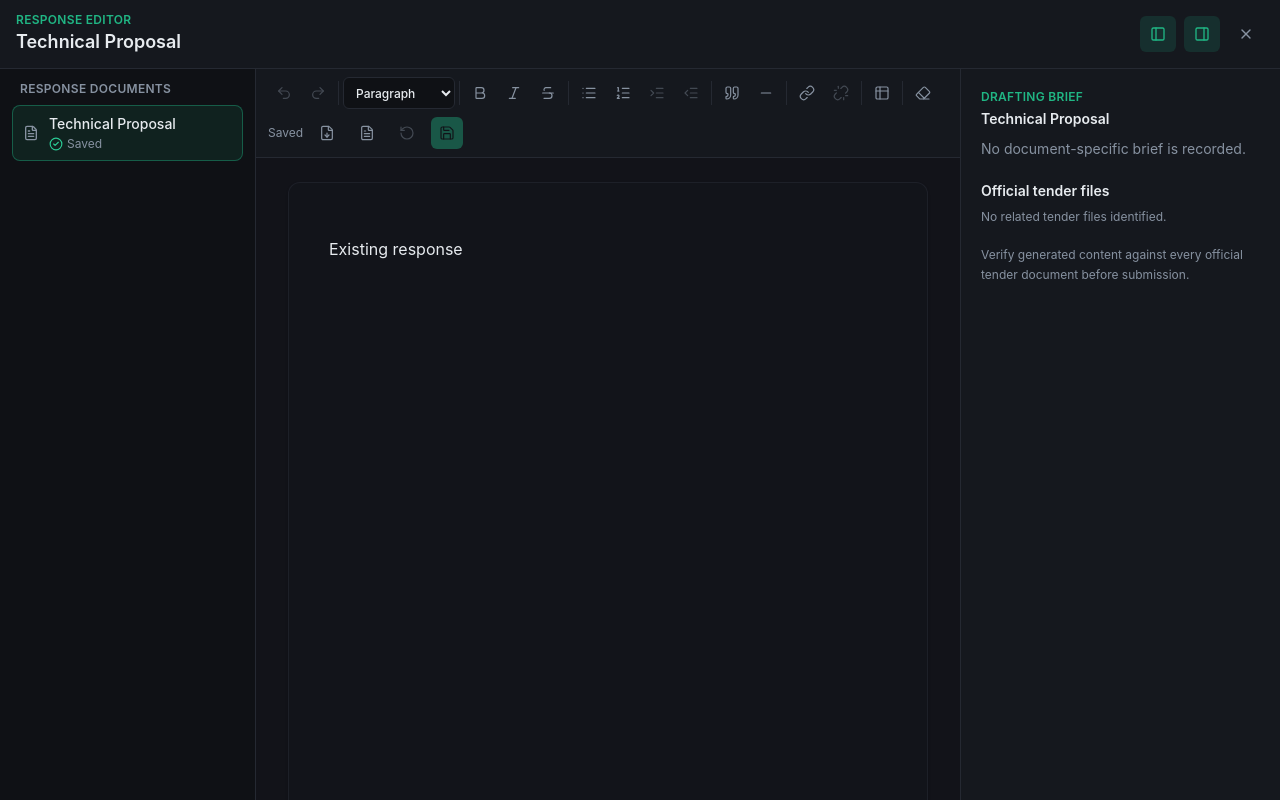
Test: DraftStage › queues a save locally when offline and shows pending sync
This screenshot has width=1280, height=800.
Click the field named "Edit Technical Proposal".
click(396, 249)  # box [329,239,463,259]
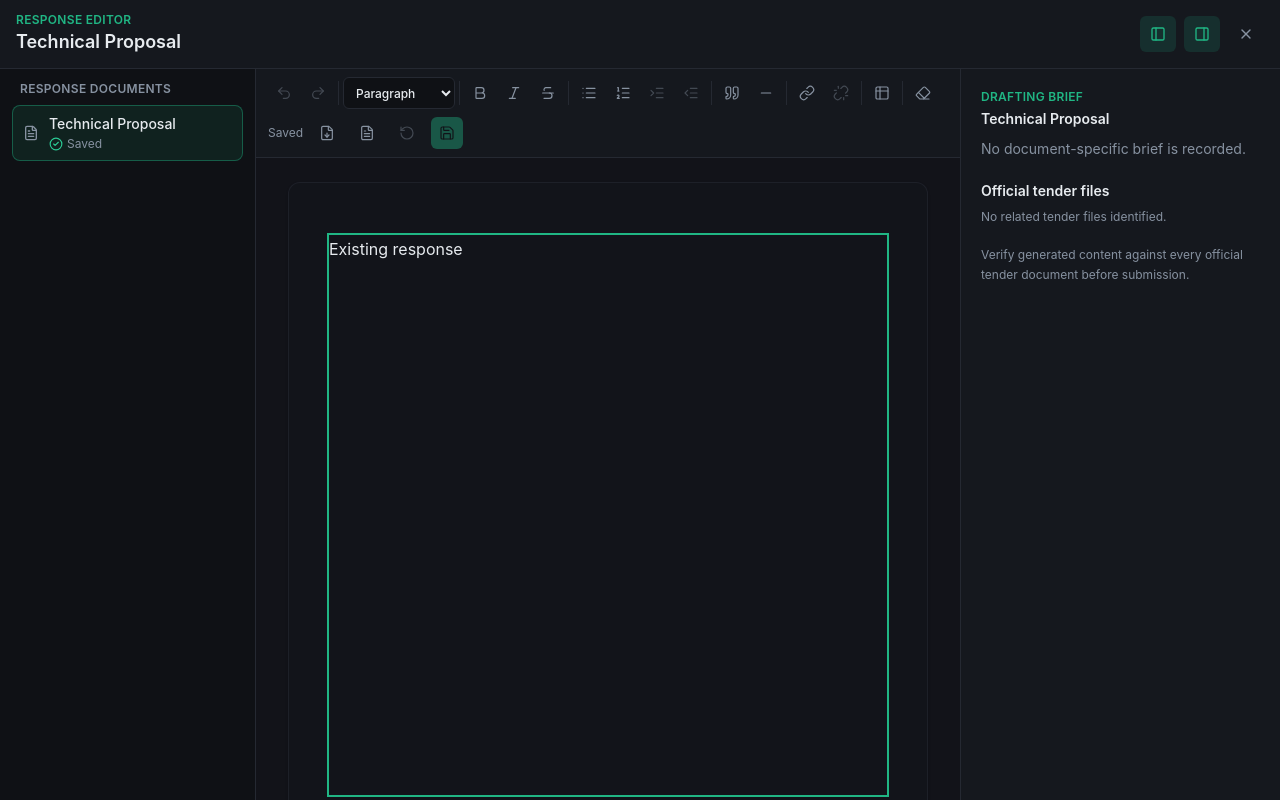
Type keys "{Control>}a{/Control}Offline content"
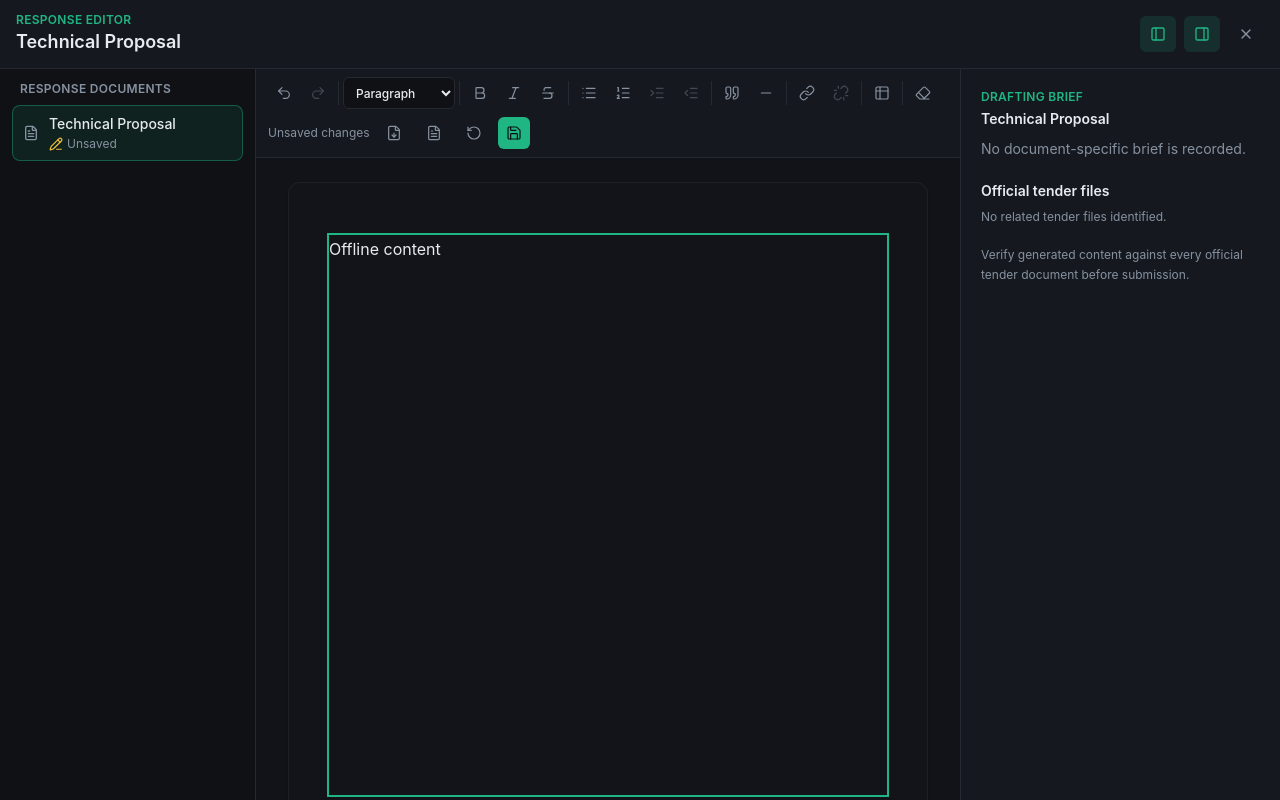
Click the button named "Save document".
click(514, 133)  # box [498,117,530,149]
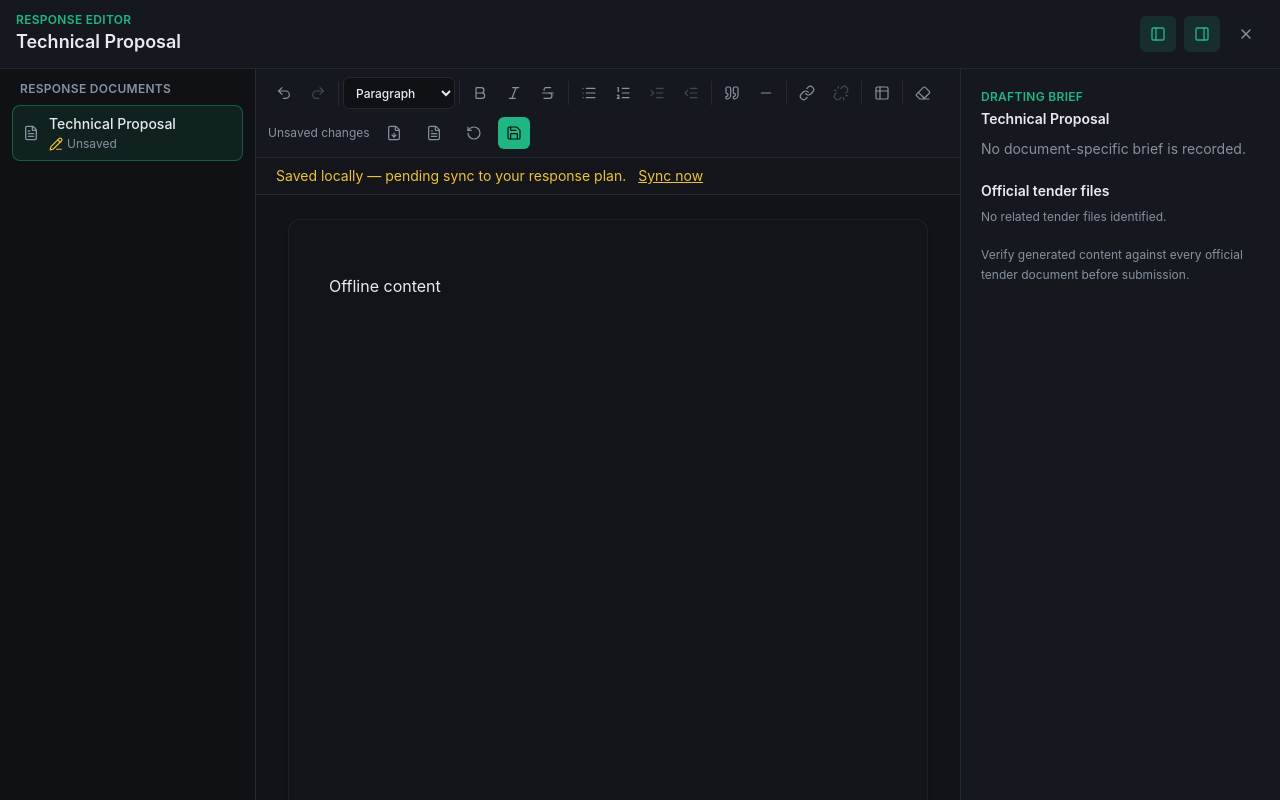
Now the text "Saved locally — pending sync to your response plan. Sync now" is shown, box [256,158,960,195]
Now the button "Sync now" is shown, box [638,166,703,186]
